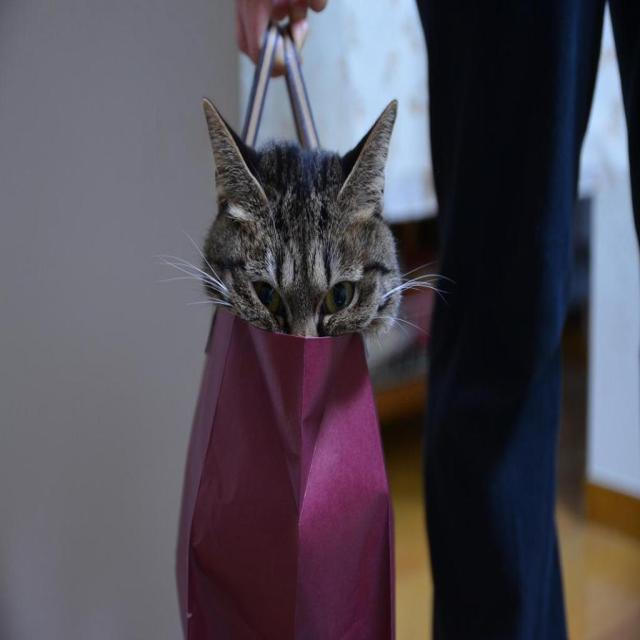cat: (186, 78, 418, 391)
